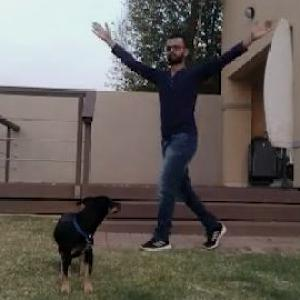takeoff: (81, 10, 270, 260)
